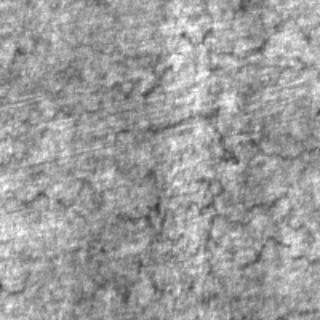crazing: (77, 9, 317, 162), (0, 154, 194, 298), (186, 170, 316, 274)
